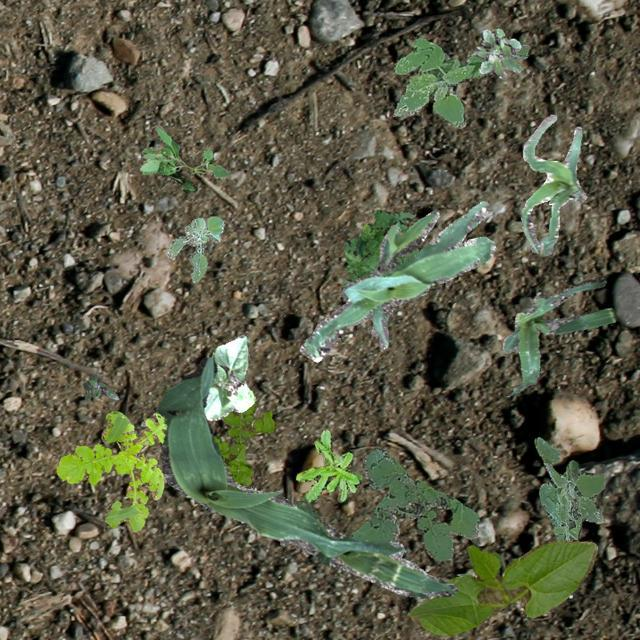crop: (156, 357, 457, 598), (298, 200, 494, 360), (406, 538, 596, 634), (502, 276, 616, 394), (520, 113, 586, 254), (202, 334, 254, 420)
weed: (348, 448, 478, 560), (56, 410, 166, 530), (392, 36, 484, 128), (534, 436, 604, 540), (138, 125, 230, 192), (340, 208, 418, 286), (212, 402, 272, 486), (294, 428, 360, 502), (166, 215, 222, 282), (471, 28, 522, 78), (81, 374, 118, 399), (512, 44, 528, 58)
